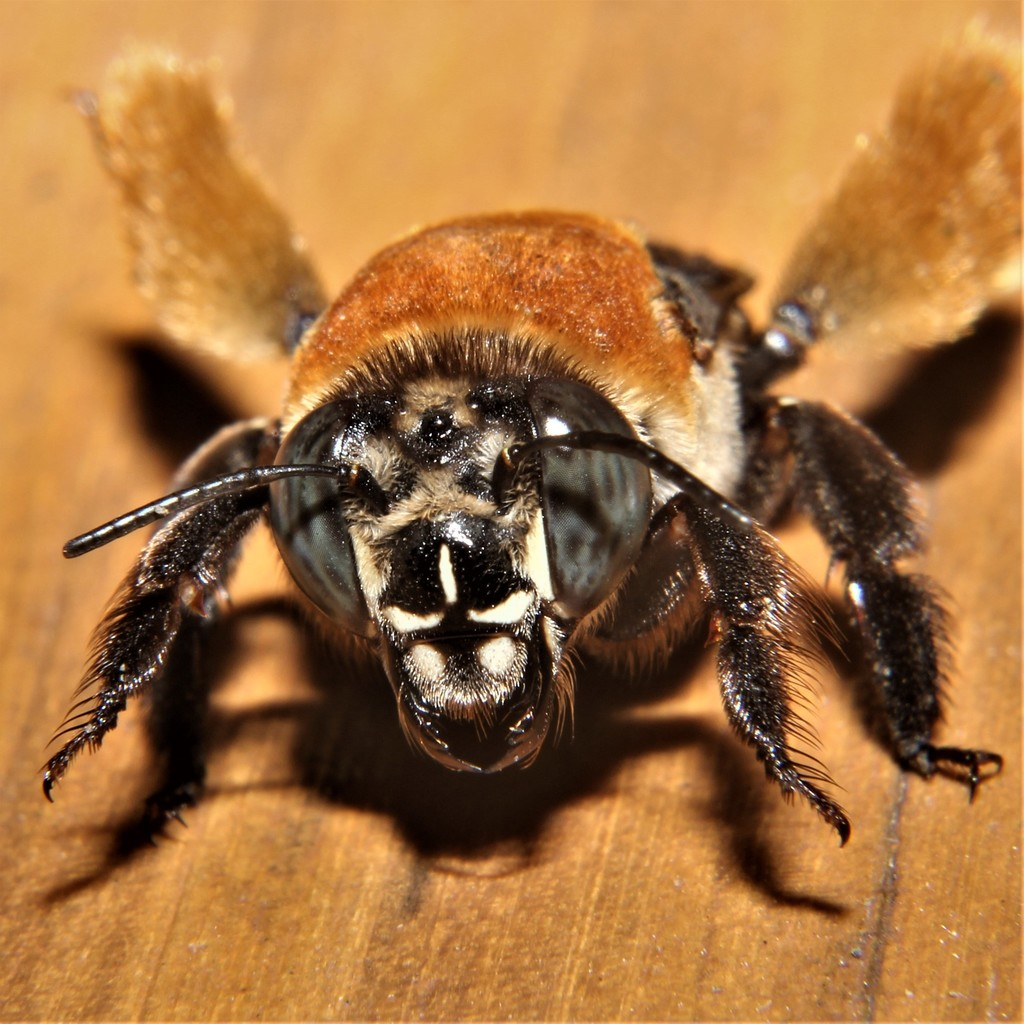not_bumblebee: (42, 51, 1014, 850)
